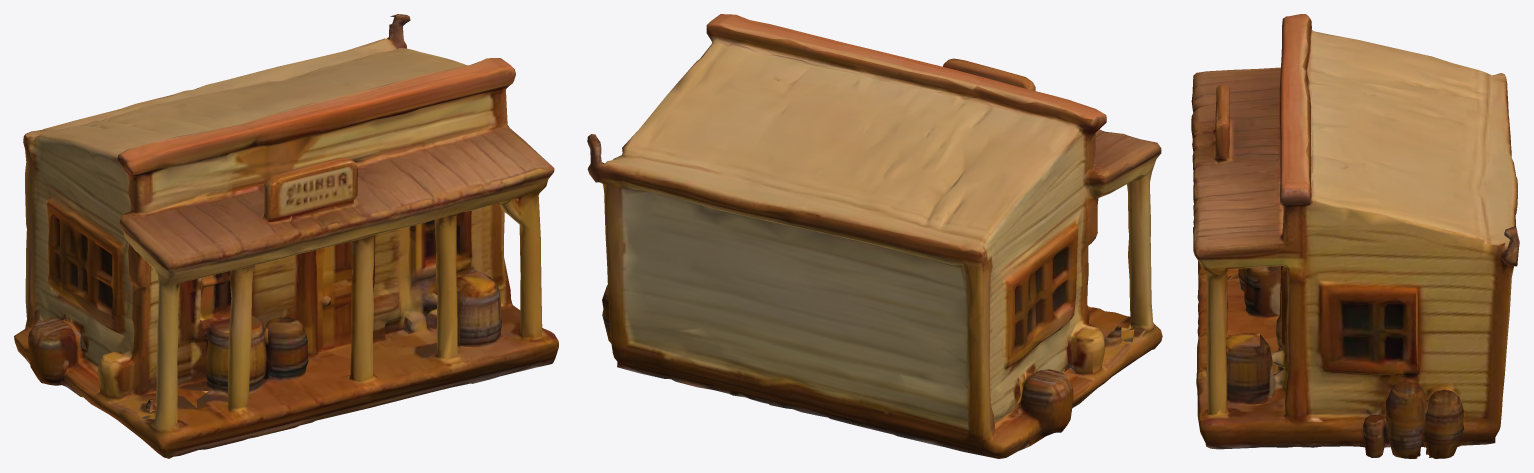
The model's file is prop_general_store.glb.
3 views of the same model, side by side, from view 1: azimuth 30°, elevation 25°; view 2: azimuth 150°, elevation 25°; view 3: azimuth 270°, elevation 25° (orthographic). The views are drawn at different scales.
Visible parts, largest first — view 1: geometry_0; view 2: geometry_0; view 3: geometry_0.
Boxes of the visible parts, x1,y1,x2,y2 form: geometry_0: (14,14,558,458); geometry_0: (587,14,1162,458); geometry_0: (1191,14,1519,458).
Size of the model in its own units: 1.77 by 1.03 by 1.18.
Materials: 1 (1 with a texture image).
